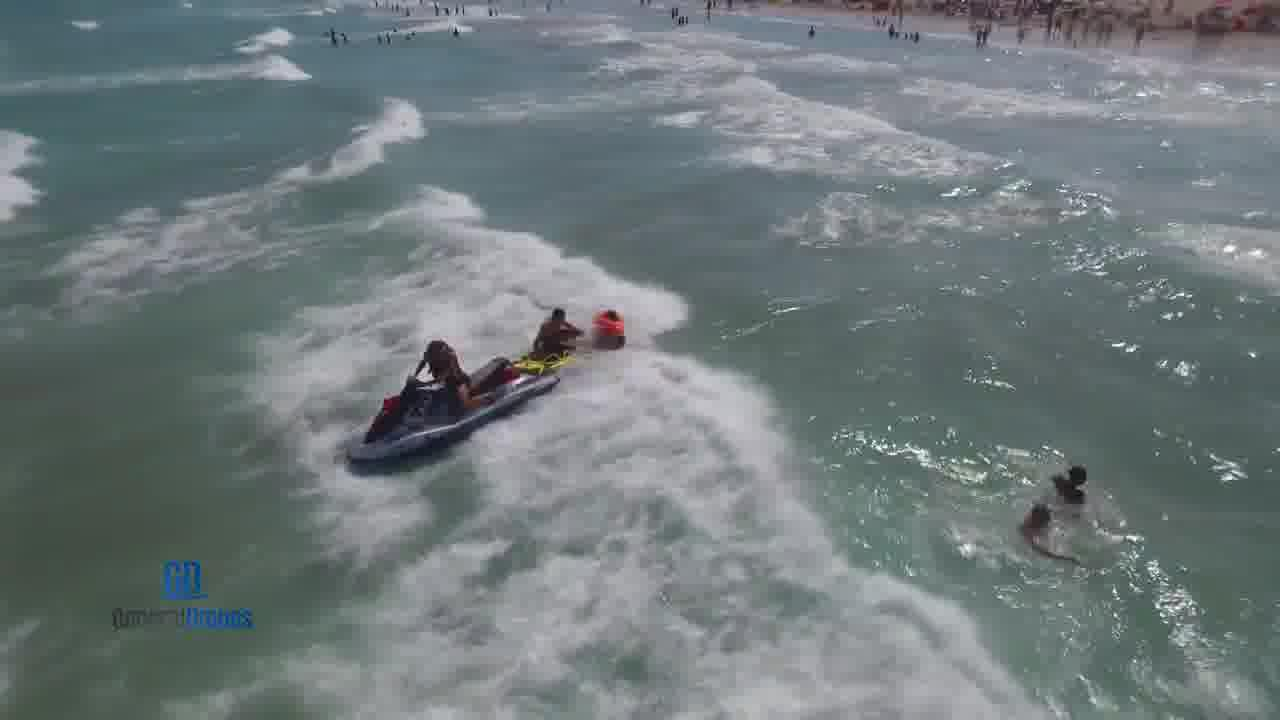swimmer: (1017, 500, 1089, 570), (1040, 449, 1110, 517), (589, 300, 643, 337), (593, 325, 644, 361)
